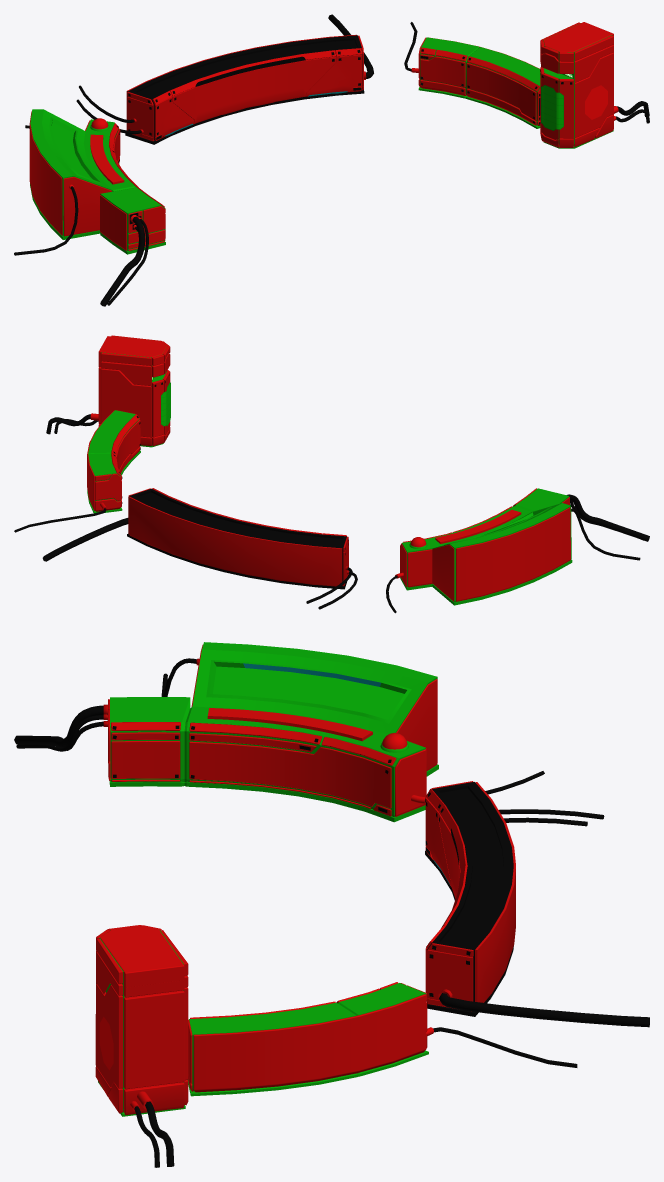
File: Proxy_HologramPanel 1.fbx
The picture shows the model from 3 angles, top to bottom: view 1: azimuth 30°, elevation 25°; view 2: azimuth 150°, elevation 25°; view 3: azimuth 270°, elevation 25°; orthographic projection. The views are drawn at different scales.
Parts seen in each view (by area): view 1: SM0173_Lobby_HologramPanel_01; view 2: SM0173_Lobby_HologramPanel_01; view 3: SM0173_Lobby_HologramPanel_01.
Boxes of the visible parts, x1,y1,x2,y2 form: SM0173_Lobby_HologramPanel_01: (14, 14, 649, 306); SM0173_Lobby_HologramPanel_01: (14, 335, 649, 613); SM0173_Lobby_HologramPanel_01: (14, 642, 649, 1167).
Bounding box in the file's own units: 3294 × 1902 × 565.
